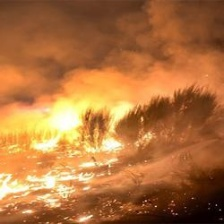fire: (2, 99, 174, 224)
smoke: (55, 4, 224, 82)
